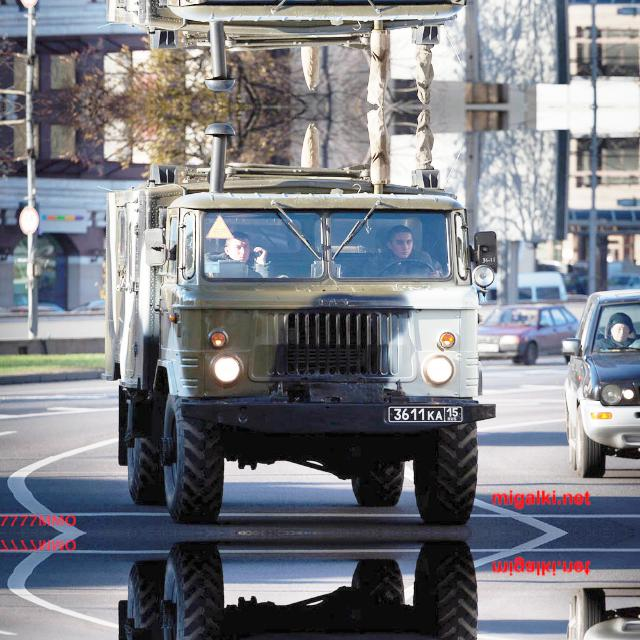military: (382, 400, 468, 428)
